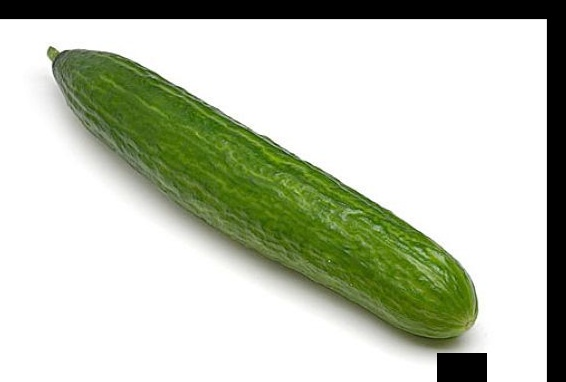cucumber: (43, 42, 475, 336)
